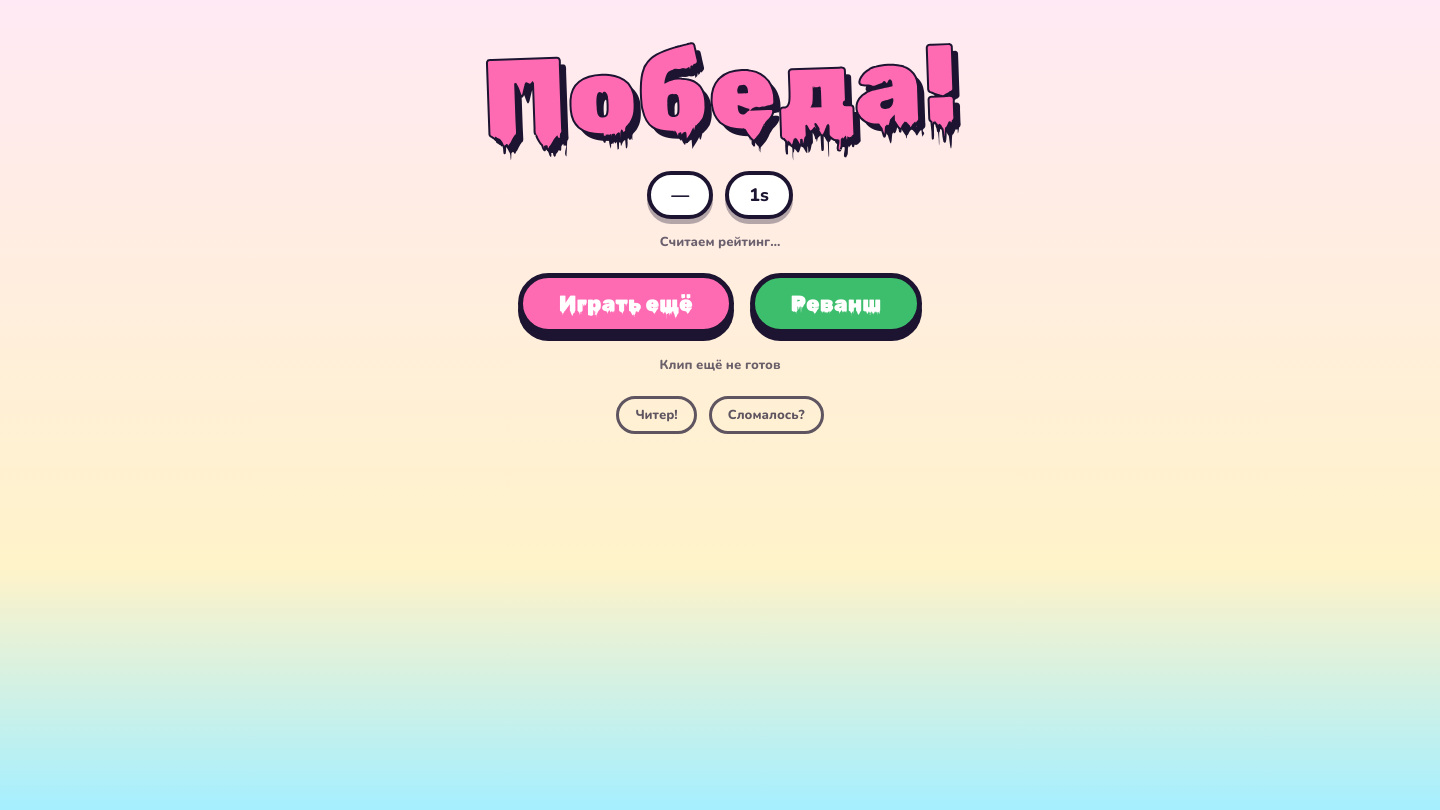
criterion 4 — report cheating / report a bug › criterion-4: "Report cheating" shows an error state on failure
Click the button with test id "report-cheat" at x=657, y=415, box [616, 396, 697, 434]
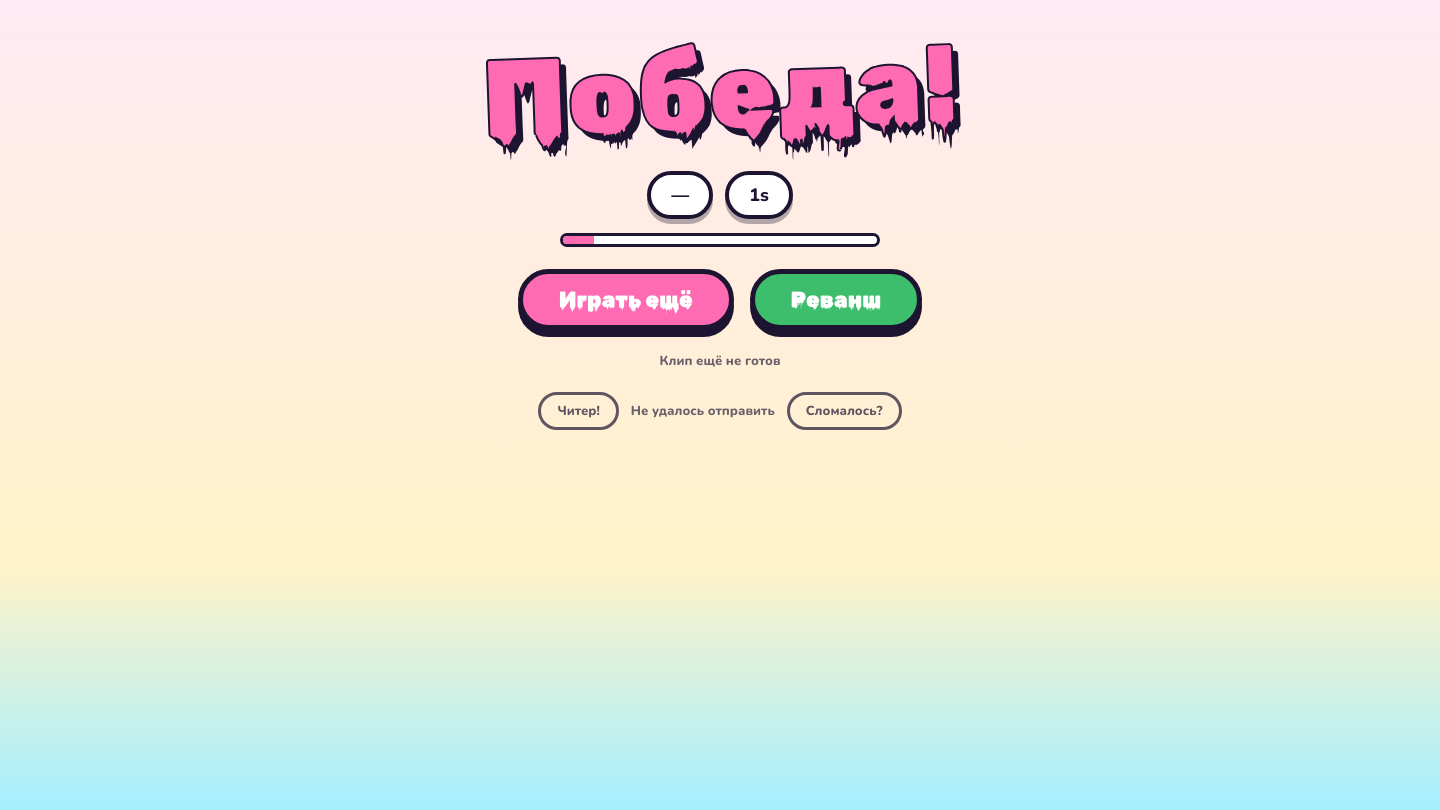
Expected: the text "Не удалось отправить" is shown, [631, 402, 775, 420]
